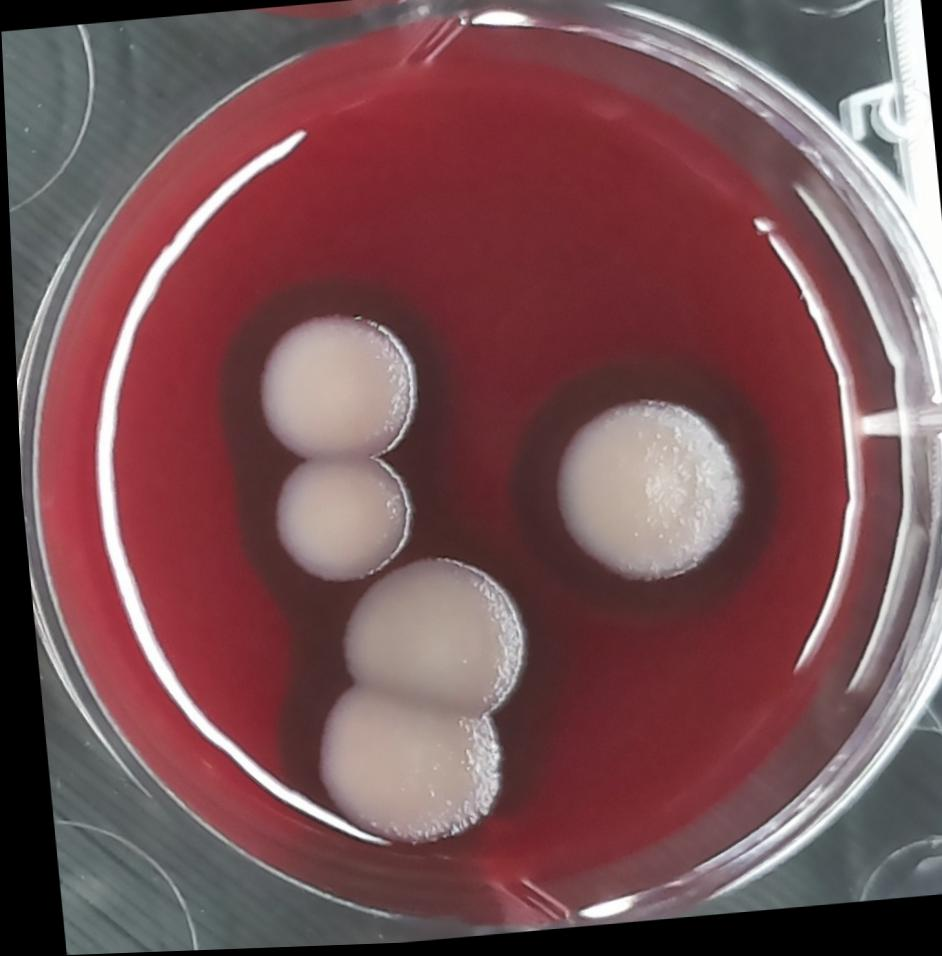bcereus: (494, 345, 781, 628), (266, 668, 522, 875), (207, 272, 451, 475), (289, 550, 536, 741), (226, 452, 442, 600)
